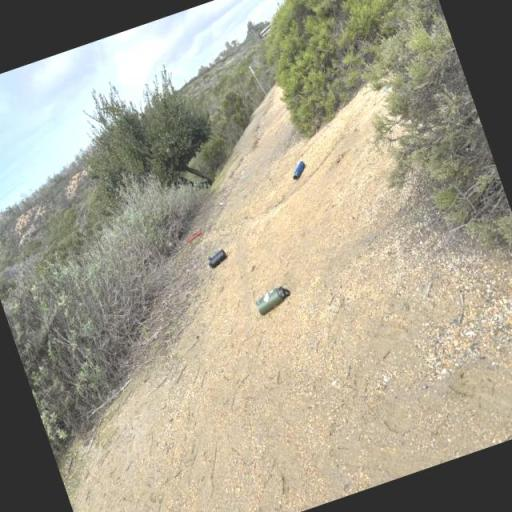bottle: (250, 280, 296, 322), (202, 246, 232, 272), (286, 158, 312, 183)
mallet: (184, 227, 205, 244)
